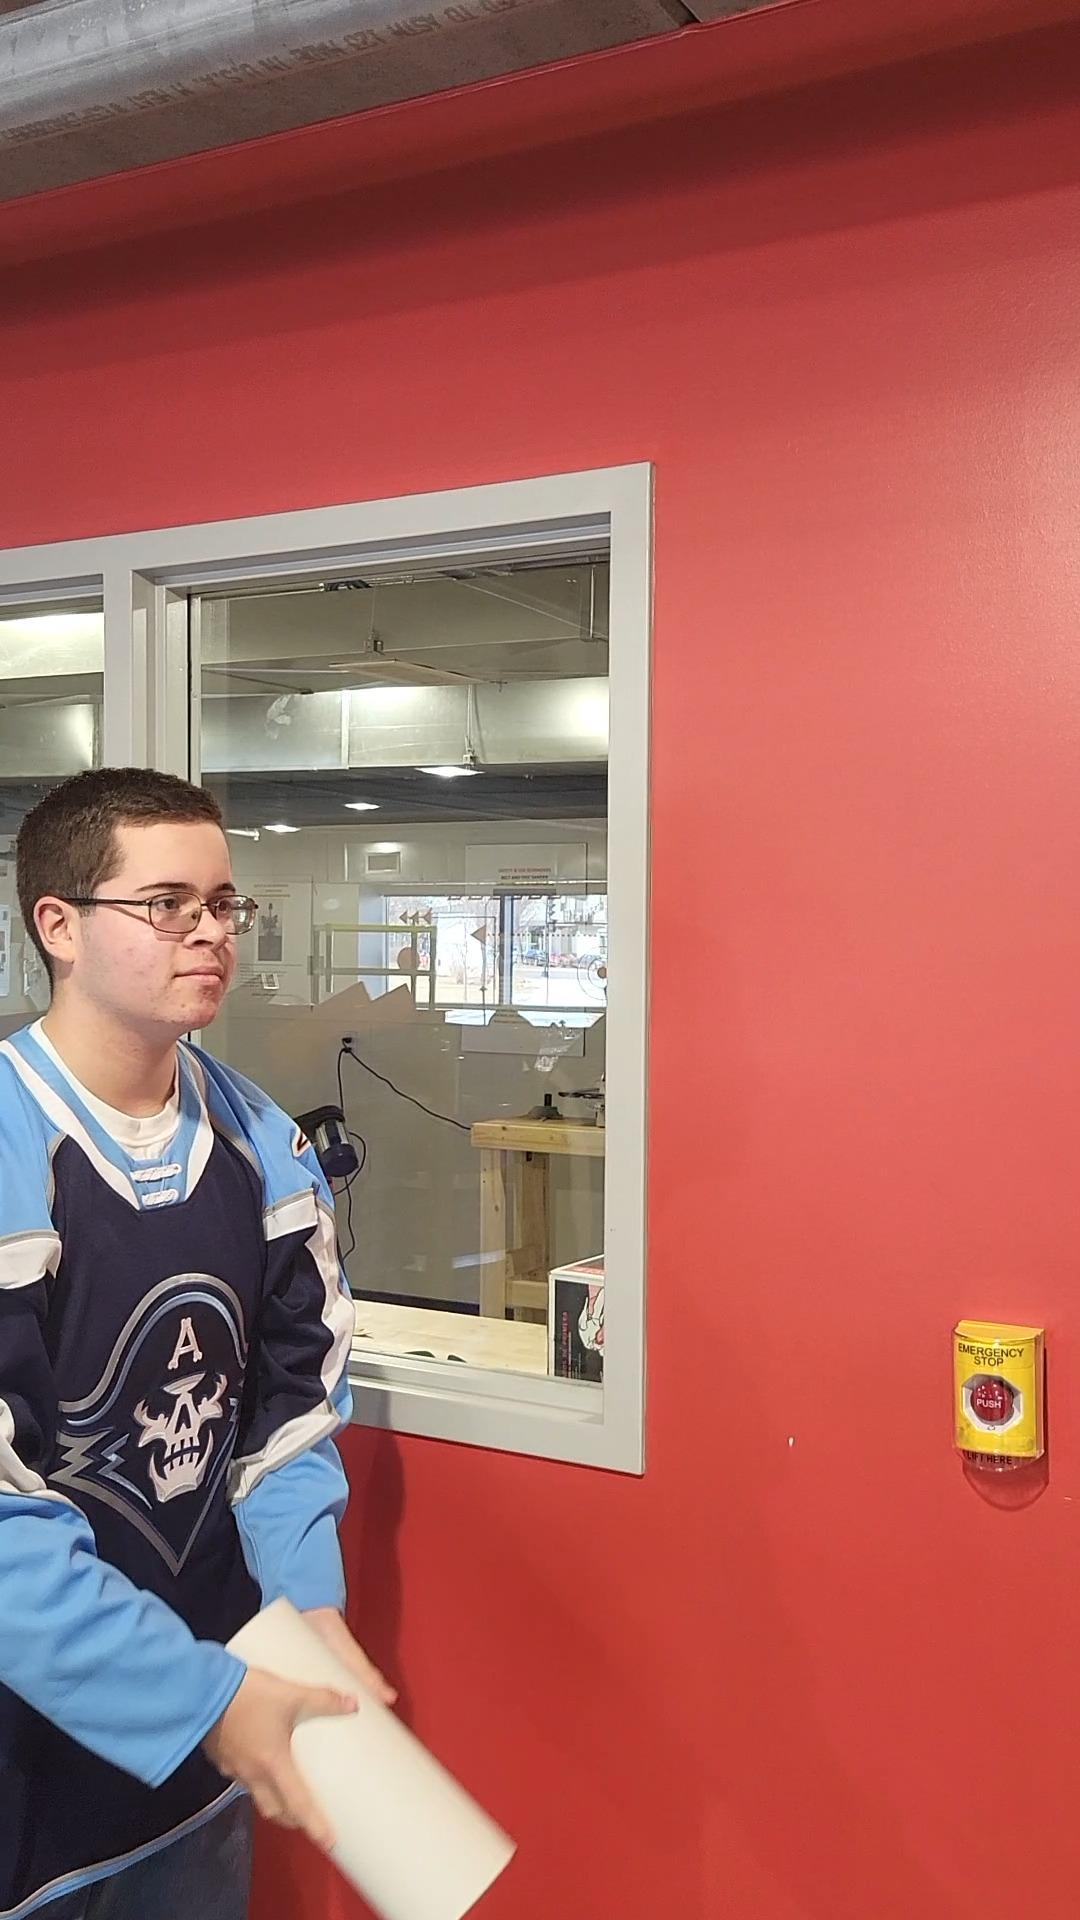coral: (196, 1600, 517, 1920)
